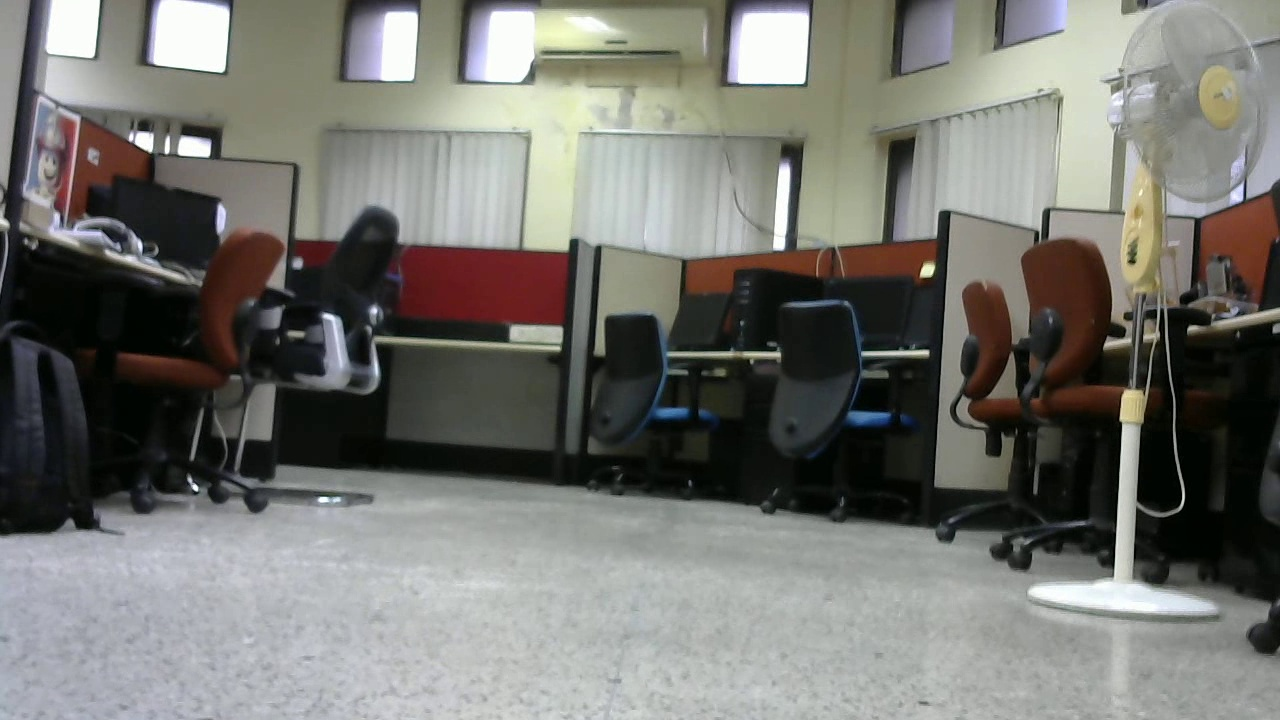chair: (1016, 247, 1197, 563), (253, 199, 401, 507), (96, 229, 245, 507), (758, 298, 929, 528), (943, 281, 1071, 546), (586, 312, 719, 503)
